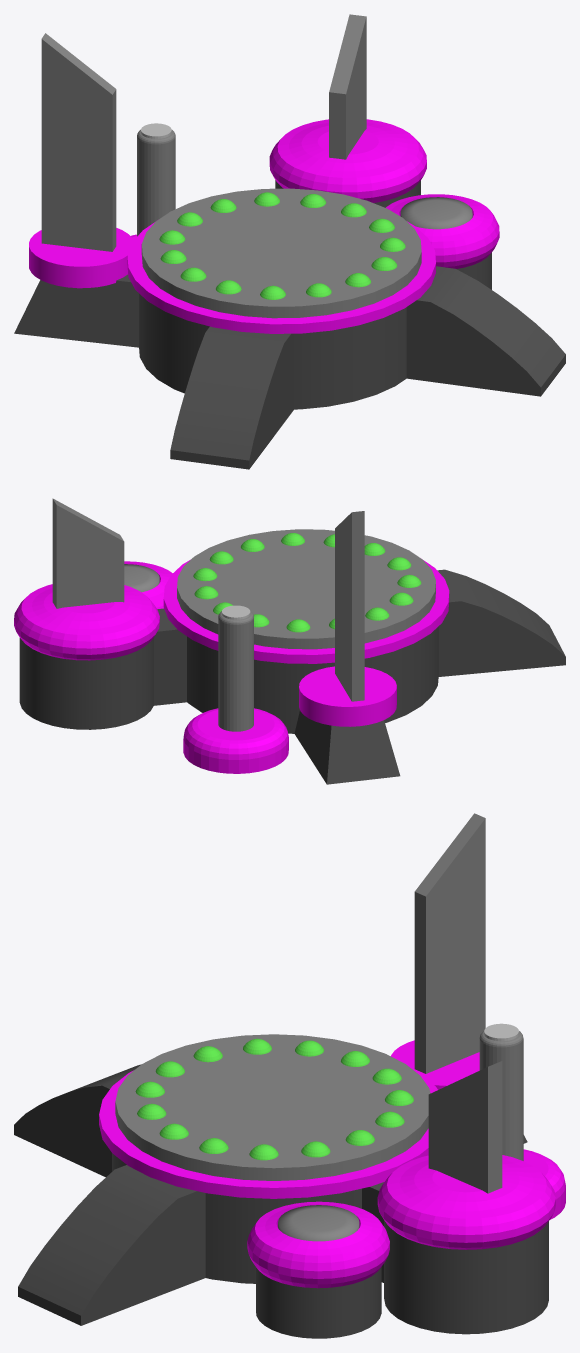
File: Armo.fbx
The picture shows the model from 3 angles, top to bottom: view 1: azimuth 30°, elevation 25°; view 2: azimuth 150°, elevation 25°; view 3: azimuth 270°, elevation 25°; orthographic projection. The views are drawn at different scales.
Visible parts, largest first — view 1: Cylinder.037, Cylinder.040, Cube.038, Cylinder.042, Sphere.024, Cube.037, Cylinder.047, Cylinder.044, Cylinder.048, Cylinder.045; view 2: Cylinder.037, Cylinder.040, Cylinder.048, Cylinder.042, Cube.037, Cube.038, Cylinder.047, Sphere.024, Cylinder.045, Cylinder.044; view 3: Cylinder.040, Cylinder.037, Cube.038, Cylinder.042, Cube.037, Cylinder.044, Sphere.024, Cylinder.048, Cylinder.045, Cylinder.047.
Boxes of the visible parts, left/top/right/bottom form: Cylinder.037: left=127, top=188, right=435, bottom=409; Cylinder.040: left=14, top=180, right=565, bottom=469; Cube.038: left=41, top=33, right=116, bottom=251; Cylinder.042: left=269, top=119, right=426, bottom=202; Sphere.024: left=159, top=192, right=405, bottom=299; Cube.037: left=329, top=14, right=366, bottom=159; Cylinder.047: left=29, top=228, right=133, bottom=288; Cylinder.044: left=386, top=194, right=499, bottom=268; Cylinder.048: left=131, top=129, right=175, bottom=240; Cylinder.045: left=400, top=197, right=472, bottom=229; Cylinder.037: left=163, top=529, right=449, bottom=733; Cylinder.040: left=19, top=569, right=565, bottom=784; Cylinder.048: left=183, top=611, right=288, bottom=773; Cylinder.042: left=14, top=584, right=159, bottom=660; Cube.037: left=52, top=498, right=124, bottom=608; Cube.038: left=335, top=511, right=364, bottom=701; Cylinder.047: left=299, top=666, right=396, bottom=726; Sphere.024: left=193, top=533, right=421, bottom=632; Cylinder.045: left=124, top=564, right=159, bottom=592; Cylinder.044: left=124, top=561, right=172, bottom=609; Cylinder.040: left=14, top=1064, right=548, bottom=1338; Cylinder.037: left=99, top=1034, right=437, bottom=1283; Cube.038: left=414, top=813, right=485, bottom=1073; Cylinder.042: left=377, top=1155, right=555, bottom=1249; Cube.037: left=428, top=1061, right=502, bottom=1193; Cylinder.044: left=247, top=1201, right=389, bottom=1288; Sphere.024: left=135, top=1038, right=413, bottom=1160; Cylinder.048: left=479, top=1031, right=565, bottom=1219; Cylinder.045: left=278, top=1205, right=359, bottom=1241; Cylinder.047: left=391, top=1040, right=479, bottom=1089.
Size of the model in its own units: 271 by 172 by 269.
